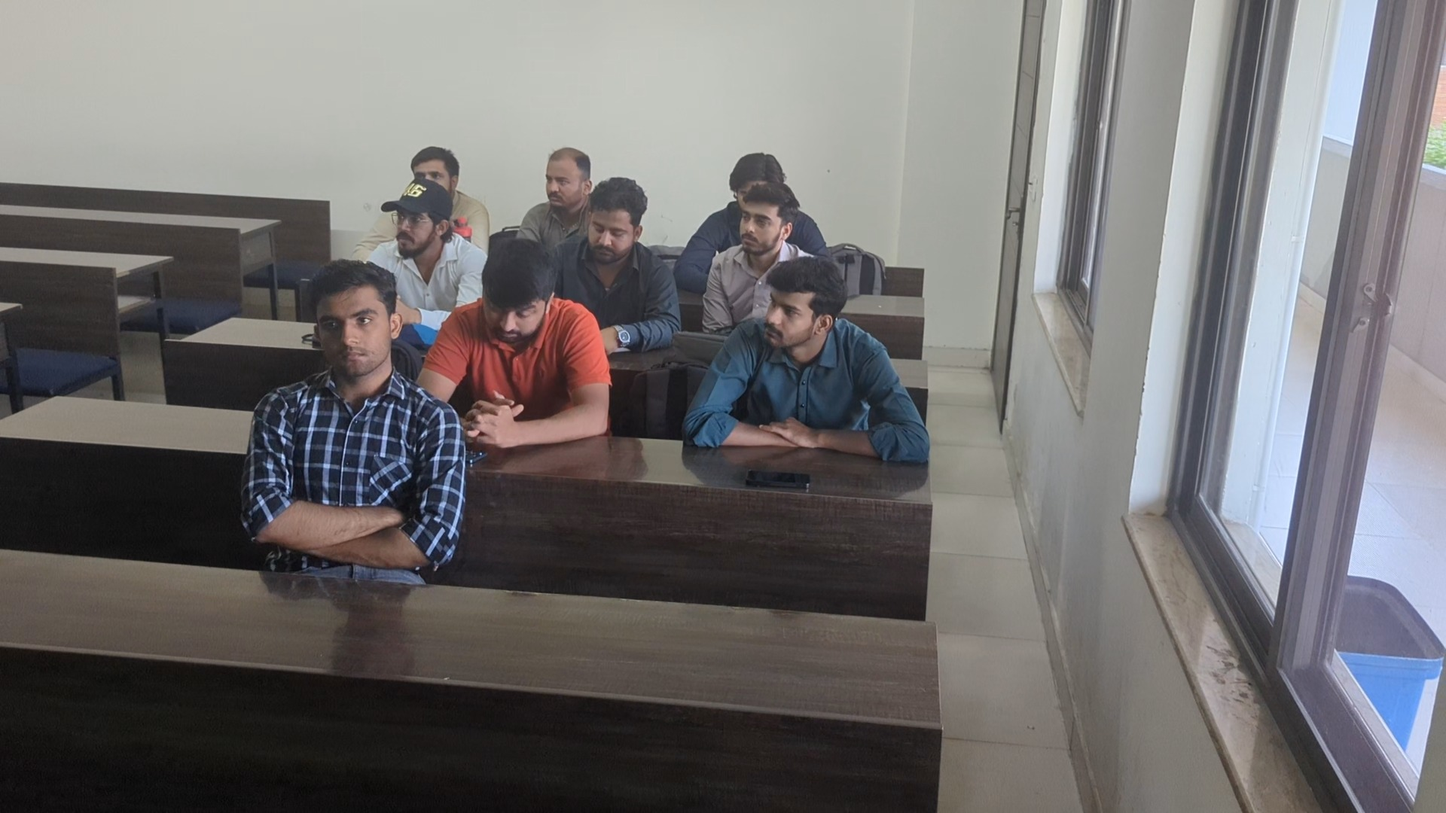look_forward: (240, 256, 467, 580), (682, 256, 925, 471), (354, 181, 473, 305), (507, 140, 596, 257)
turn_head: (422, 239, 612, 448)
write: (543, 173, 687, 360), (694, 180, 796, 342)
